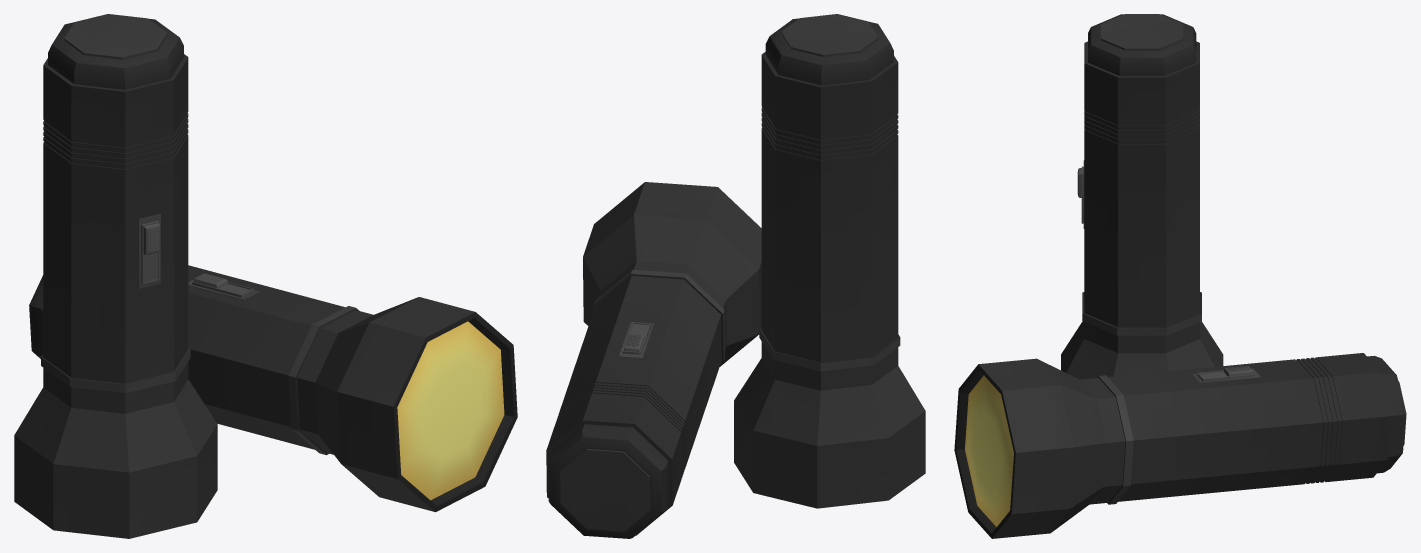
3 renders of one model, left to right at view 1: azimuth 30°, elevation 25°; view 2: azimuth 150°, elevation 25°; view 3: azimuth 270°, elevation 25°, orthographic. The views are drawn at different scales.
Parts seen in each view (by area): view 1: Flashlight, Flashlight.001; view 2: Flashlight, Flashlight.001; view 3: Flashlight.001, Flashlight.
Boxes of the visible parts, x1,y1,x2,y2 form: Flashlight: [14, 14, 217, 538]; Flashlight.001: [29, 265, 517, 512]; Flashlight: [734, 14, 925, 508]; Flashlight.001: [546, 182, 761, 538]; Flashlight.001: [954, 353, 1406, 538]; Flashlight: [1061, 14, 1223, 379].
Size of the model in its own units: 6.43 by 6.93 by 7.21.
1 material, 1 textured.
